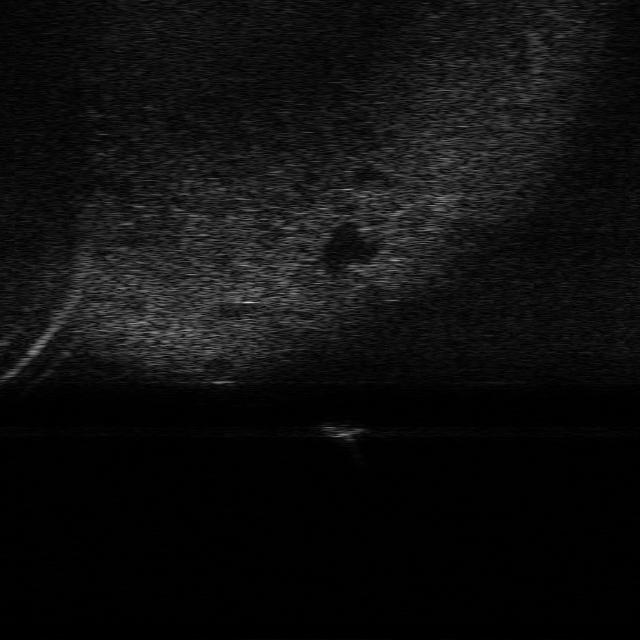cube: (319, 417, 365, 439)
